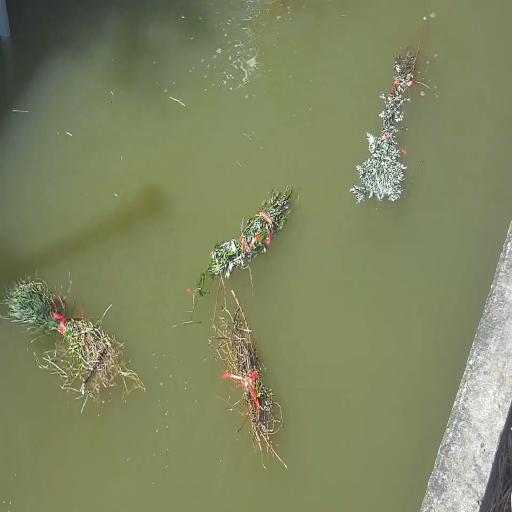twig: (0, 272, 146, 415), (210, 277, 287, 468), (350, 18, 427, 203), (194, 186, 292, 304)
